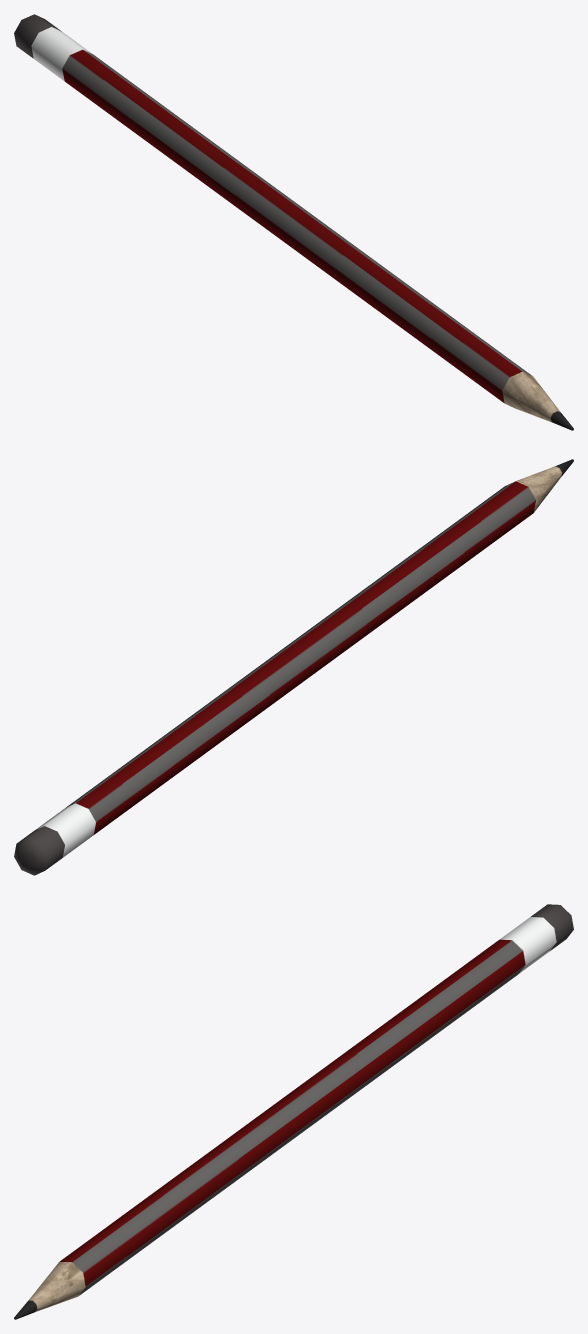
The model's file is PencilRedGrey.fbx.
The picture shows the model from 3 angles, top to bottom: view 1: azimuth 30°, elevation 25°; view 2: azimuth 150°, elevation 25°; view 3: azimuth 330°, elevation 25°; orthographic projection.
Parts seen in each view (by area): view 1: Pencil 1.001; view 2: Pencil 1.001; view 3: Pencil 1.001.
Boxes of the visible parts, box(x1,y1,x2,y2) form: Pencil 1.001: box(14, 14, 573, 430); Pencil 1.001: box(14, 459, 573, 875); Pencil 1.001: box(14, 904, 573, 1319).
Size of the model in its own units: 0.7567 by 0.7567 by 21.12.
